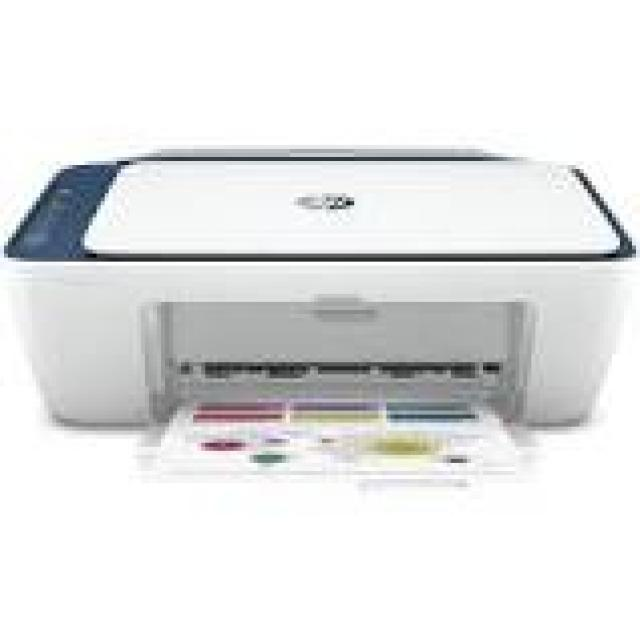printer: (4, 103, 640, 506)
